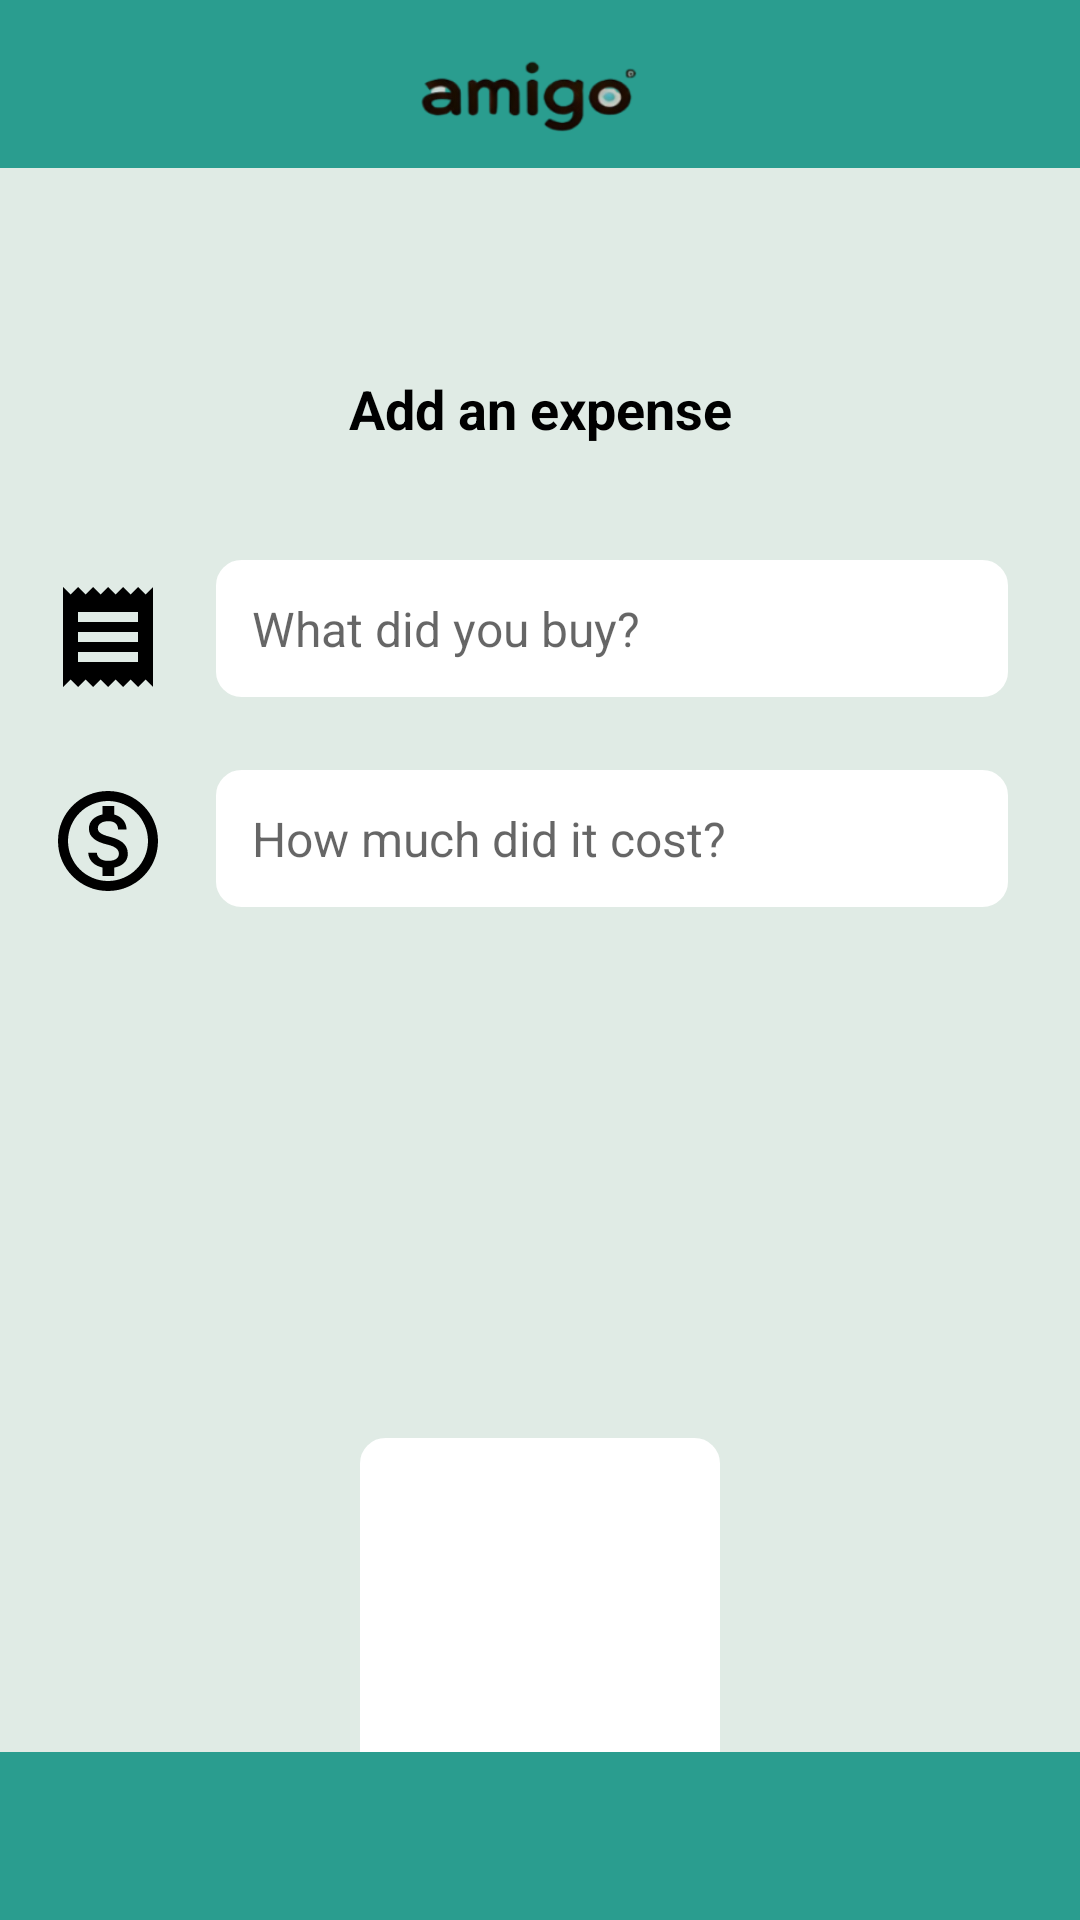

Icons on this 1080w x 1920h Android screen, each with its box as BBox(x1, y1, x2, y2):
amount: BBox(58, 791, 158, 891)
recipt: BBox(63, 587, 153, 687)
